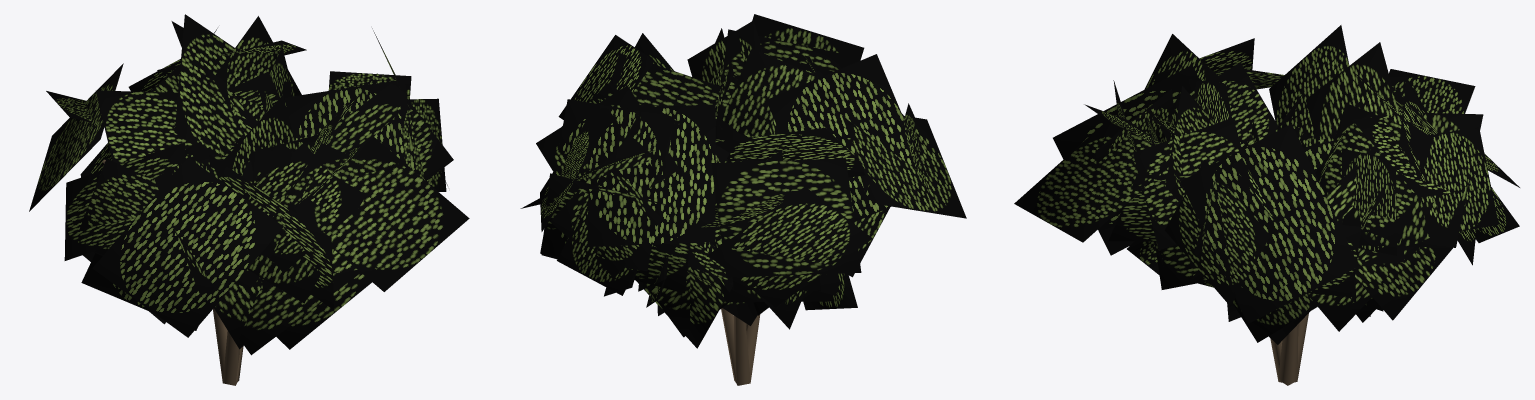
File: andes_pacay_lod1.glb
The picture shows the model from 3 angles, left to right: view 1: azimuth 30°, elevation 25°; view 2: azimuth 150°, elevation 25°; view 3: azimuth 270°, elevation 25°; orthographic projection.
Parts seen in each view (by area): view 1: GEO-Andes_pacay_LOD1; view 2: GEO-Andes_pacay_LOD1; view 3: GEO-Andes_pacay_LOD1.
Boxes of the visible parts, box(x1,y1,x2,y2) form: GEO-Andes_pacay_LOD1: box(29, 14, 469, 385); GEO-Andes_pacay_LOD1: box(520, 14, 966, 385); GEO-Andes_pacay_LOD1: box(1014, 25, 1519, 385).
Size of the model in its own units: 5.82 by 4.63 by 6.26.
2 materials, 1 textured.
